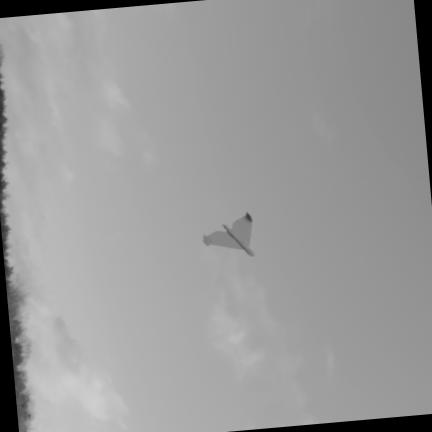Shahed: (203, 213, 253, 257)
